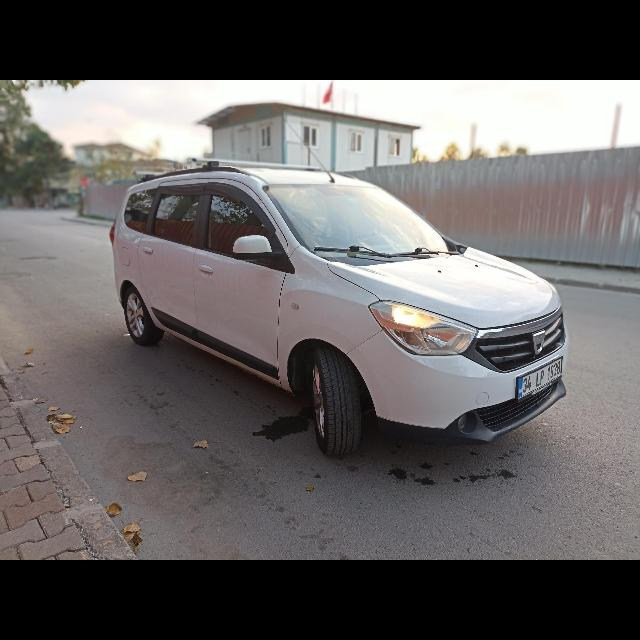Plaka: (518, 356, 564, 396)
